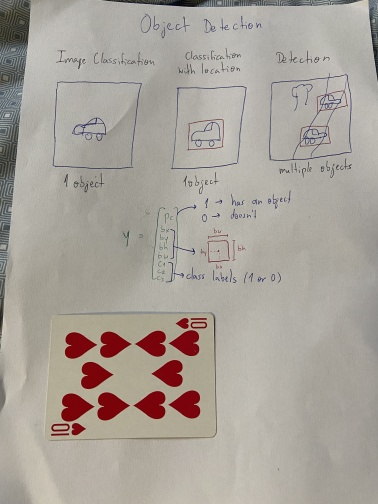ten: (43, 310, 218, 442)
